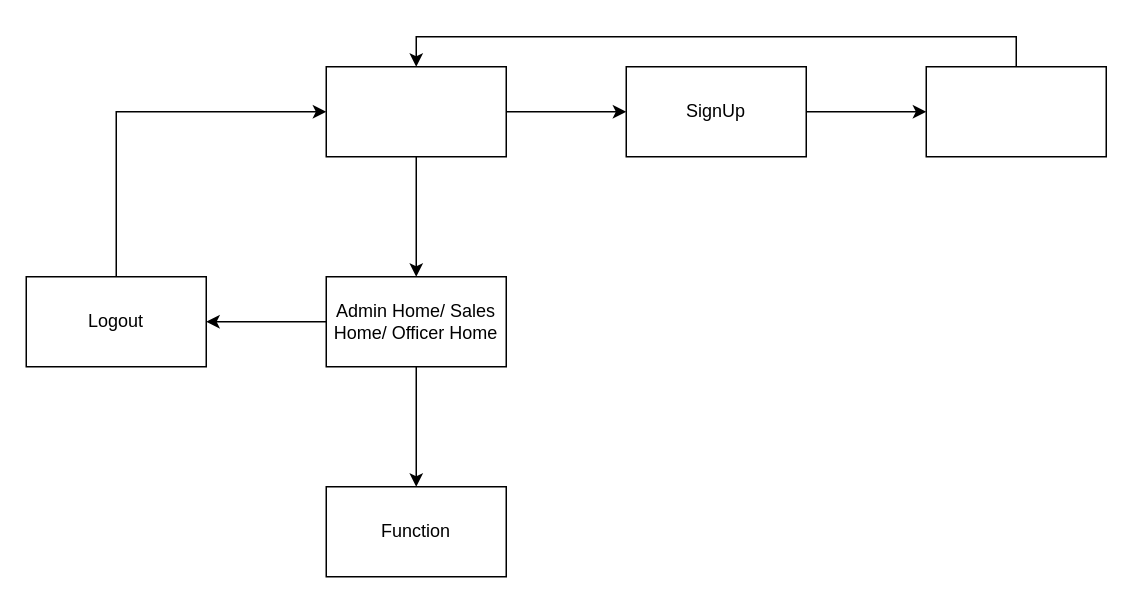
Some shapes in this 1133 by 603 pixel diagram are drawn without their labels. Each missing label, with the centre of its shape:
Build Profile: [1015,111]
Login: [415,111]
